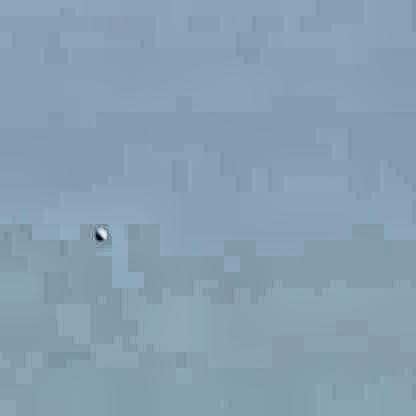golfball: (92, 225, 105, 241)
